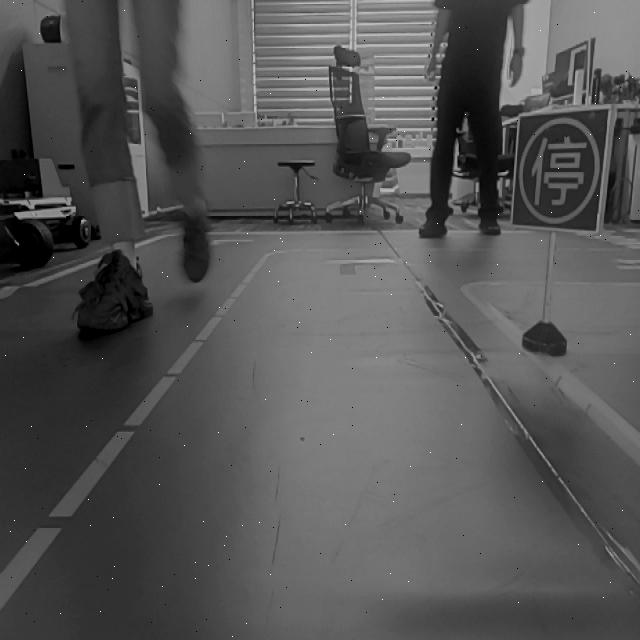left_lane: (0, 253, 270, 616)
